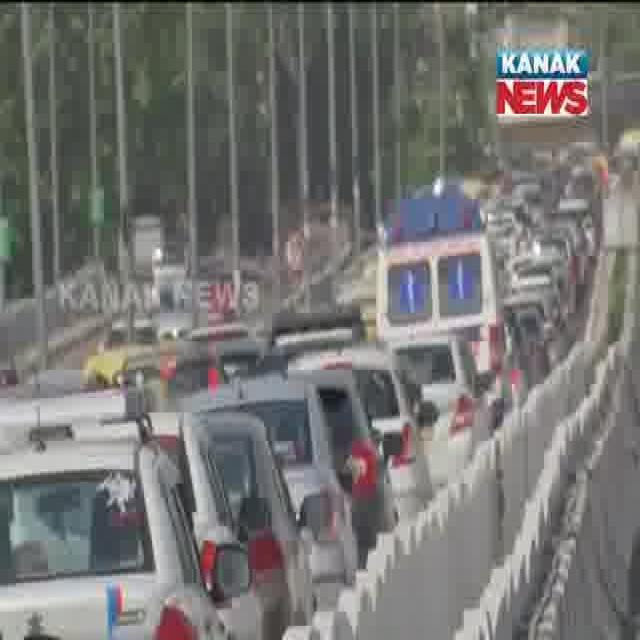ambulance: (365, 170, 504, 329)
